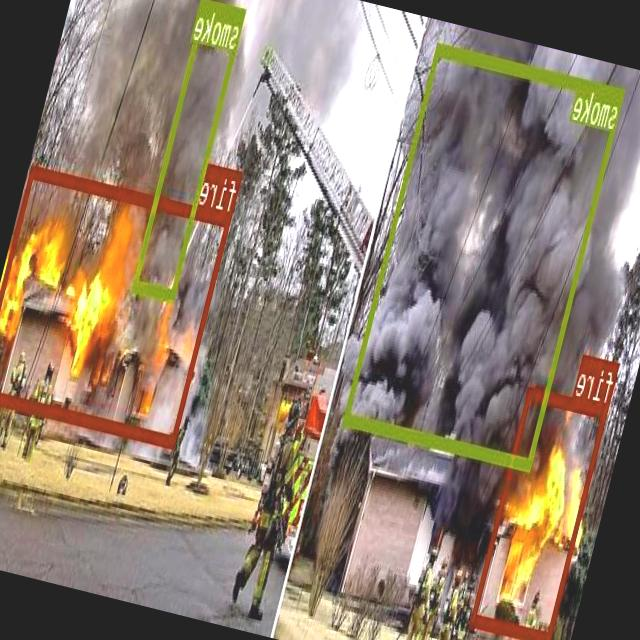fire: (0, 163, 232, 446), (471, 385, 610, 640)
smoke: (344, 42, 626, 468), (133, 0, 247, 298)
